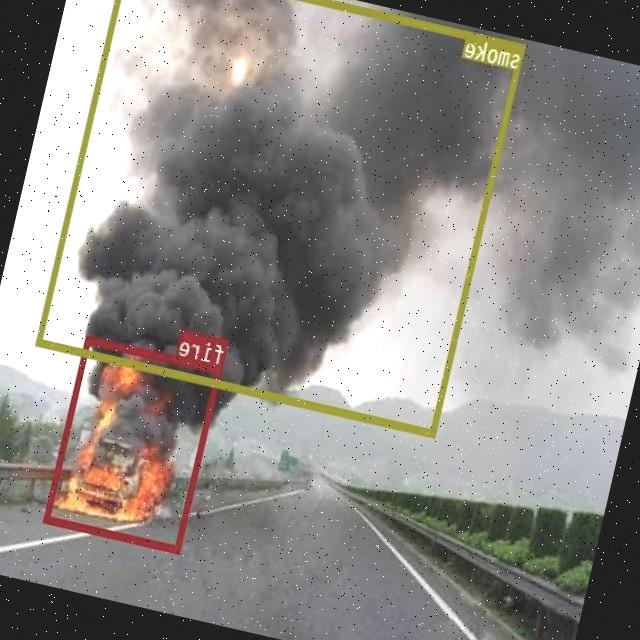fire: (44, 334, 223, 552)
smoke: (37, 0, 527, 436)
